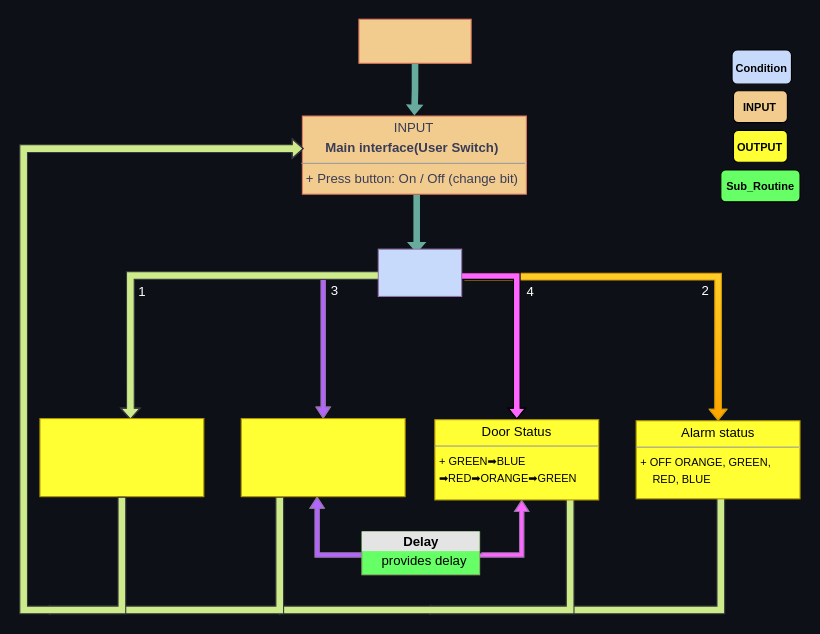
This 820x634 diagram has some shape labels left out. The shapes that lost their labels are listed below. From the top down, each one's centre as x and y in pixels, then its label:
(x=414, y=40): USER
(x=419, y=272): Count Value
(x=121, y=457): Window Status + ON ORANGE, GREEN, RED, BLUE
(x=322, y=457): Car Battery Info + GREEN➡ORANGE ➡RED➡BLUE➡GREEN
